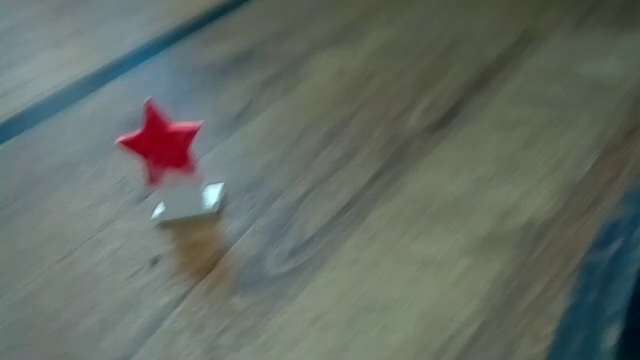star: (99, 92, 245, 235)
